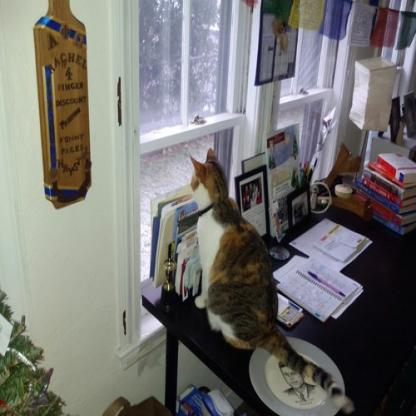Target: (182, 147, 368, 416)
